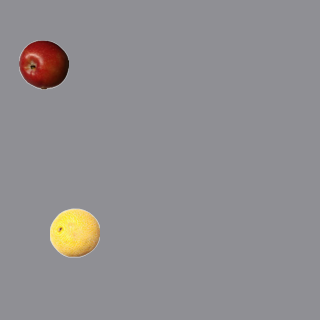Apple Braeburn: (18, 39, 68, 89)
Cantaloupe 1: (49, 207, 99, 257)
